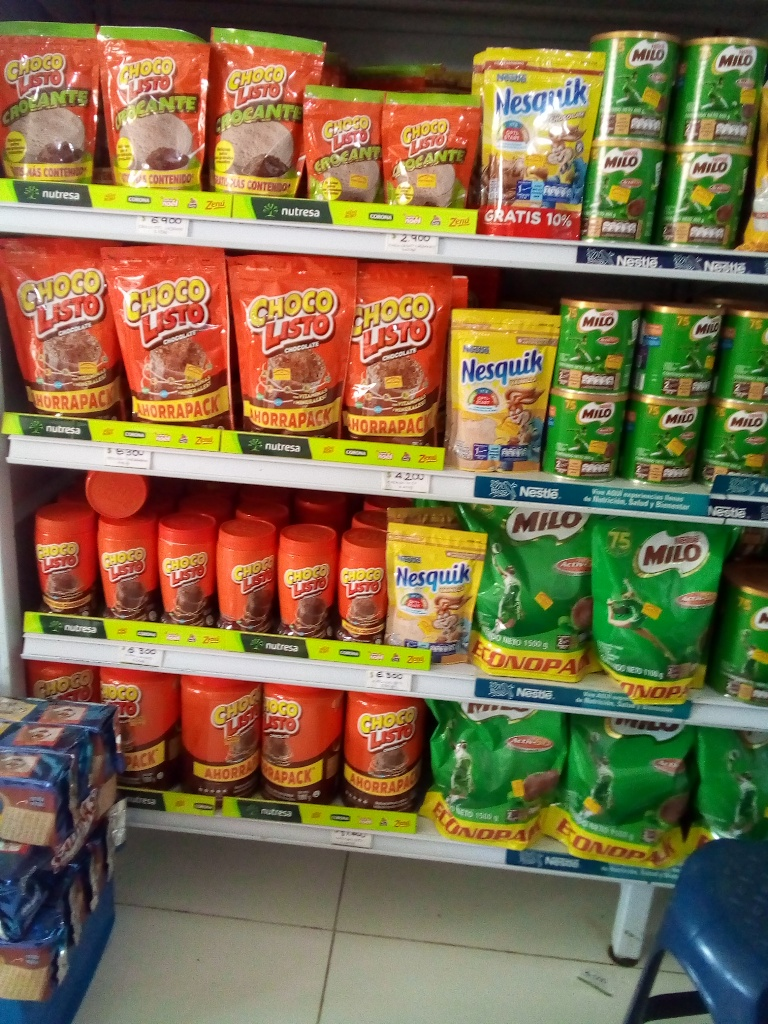COL0170102DYP10000: (305, 83, 383, 200)
COL0170103DYP44000: (2, 234, 106, 416)
COL0170103TRR00100: (103, 672, 178, 785)
COL0170103TRR30000: (22, 501, 93, 607)
COL0170203LAT40000: (596, 30, 681, 146)
COL0170306DYP20000: (444, 306, 560, 477)
